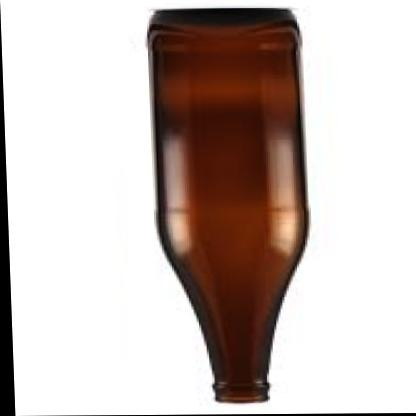trash: (148, 9, 307, 401)
